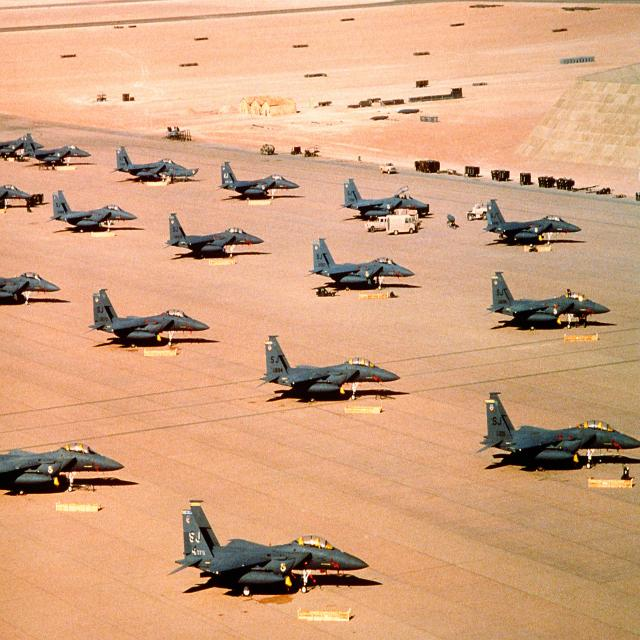MIL_Plane: (166, 500, 370, 597), (474, 391, 640, 471), (255, 334, 400, 403), (483, 271, 611, 332), (88, 289, 210, 348), (0, 442, 125, 496), (304, 237, 416, 291), (163, 212, 265, 258), (480, 199, 582, 245), (47, 190, 138, 233), (337, 178, 430, 220), (109, 144, 188, 182), (220, 162, 296, 200), (20, 132, 92, 164), (1, 271, 62, 306), (0, 135, 44, 158), (0, 183, 33, 213)
